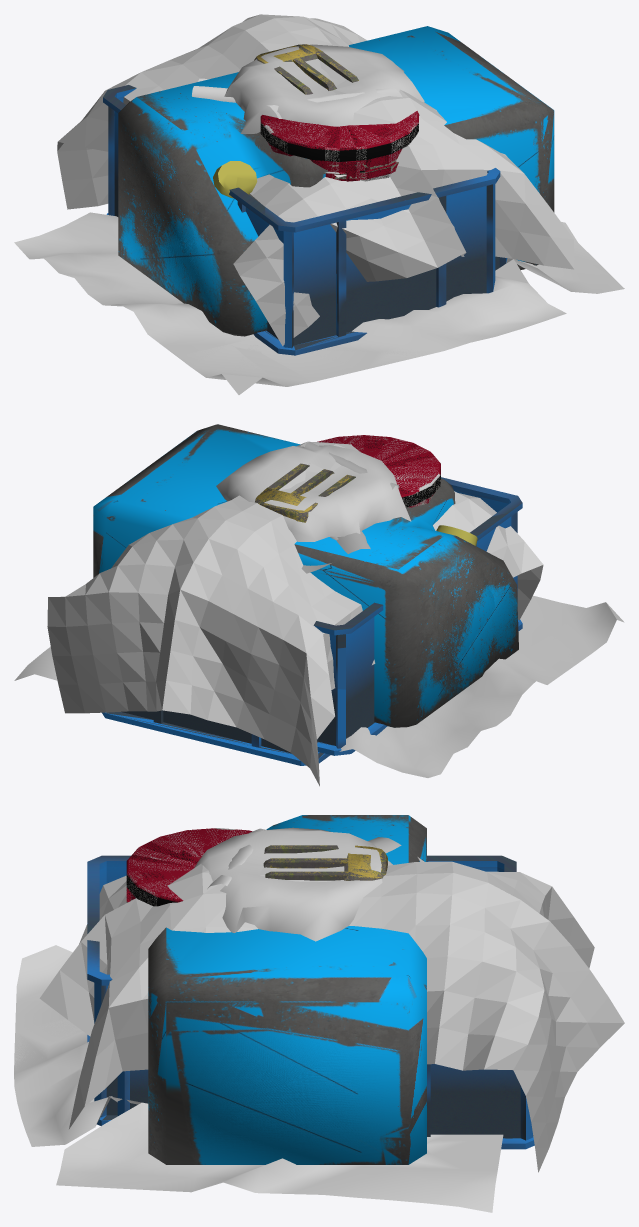
Rendered from Vehicle props.fbx.
3 renders of one model, top to bottom at view 1: azimuth 30°, elevation 25°; view 2: azimuth 150°, elevation 25°; view 3: azimuth 270°, elevation 25°, orthographic. The views are drawn at different scales.
Parts seen in each view (by area): view 1: diesel, stacked_items, Cloth_2, crate, bucket, washer, canister, Cloth_1; view 2: stacked_items, diesel, Cloth_2, bucket, crate, washer, canister, Cloth_1; view 3: diesel, stacked_items, Cloth_2, bucket, washer, crate, canister, Cloth_1.
Boxes of the visible parts, x1,y1,x2,y2 form: diesel: [118, 26, 554, 336]; stacked_items: [57, 14, 574, 345]; Cloth_2: [14, 212, 624, 394]; crate: [103, 85, 500, 355]; bucket: [224, 44, 424, 133]; washer: [260, 111, 419, 181]; canister: [254, 44, 358, 94]; Cloth_1: [192, 78, 402, 177]; stacked_items: [47, 441, 543, 786]; diesel: [93, 424, 518, 727]; Cloth_2: [14, 595, 624, 777]; bucket: [216, 445, 411, 541]; crate: [313, 477, 522, 755]; washer: [317, 435, 440, 507]; canister: [255, 463, 355, 522]; Cloth_1: [301, 442, 399, 573]; diesel: [148, 815, 426, 1164]; stacked_items: [39, 861, 624, 1172]; Cloth_2: [14, 945, 503, 1212]; bucket: [194, 827, 392, 941]; washer: [126, 828, 252, 906]; crate: [87, 855, 516, 1125]; canister: [263, 845, 387, 880]; Cloth_1: [207, 828, 424, 888].
Bounding box in the file's own units: 1331 × 598 × 1422.
